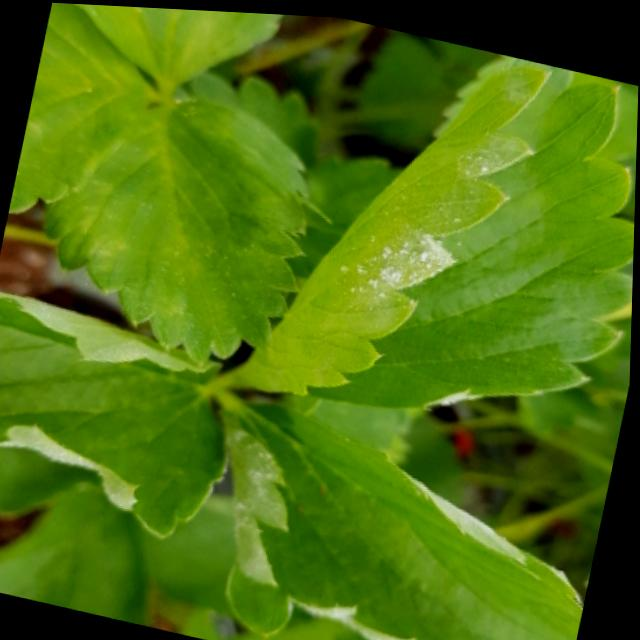Powdery Mildew Leaf: (224, 49, 636, 403), (227, 390, 587, 640), (0, 291, 235, 538)
